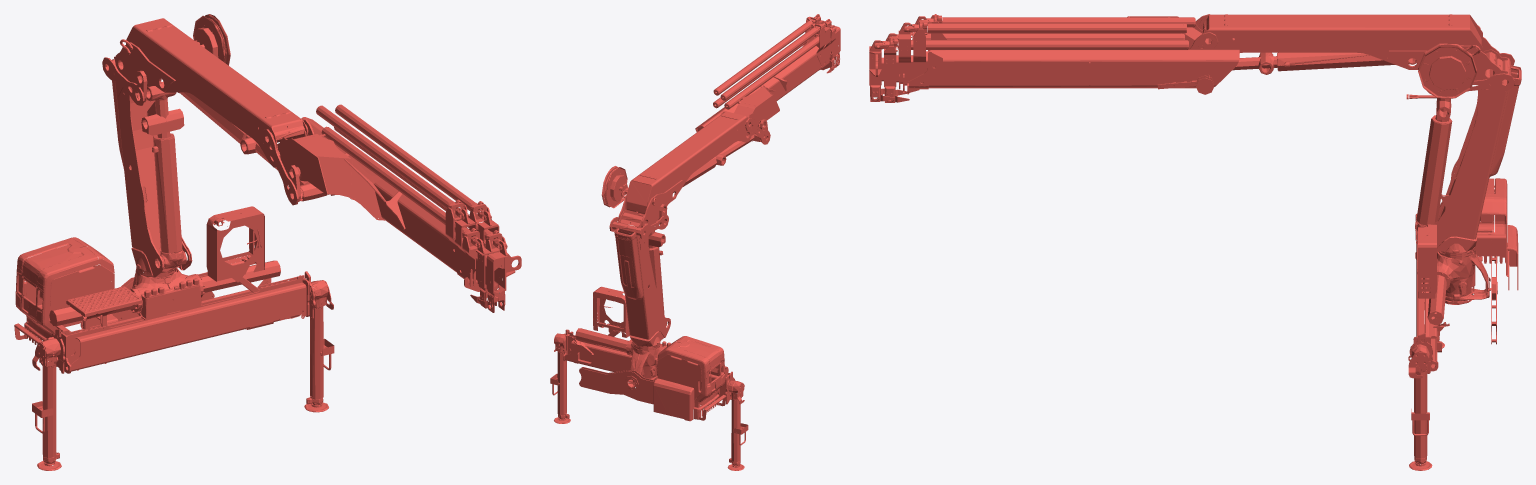
The model's file is hiab-x-hipro-142e4-unfolded.glb.
The picture shows the model from 3 angles, left to right: view 1: azimuth 30°, elevation 25°; view 2: azimuth 150°, elevation 25°; view 3: azimuth 270°, elevation 25°; orthographic projection. The views are drawn at different scales.
Visible parts, largest first — view 1: slew_mesh, base_mesh; view 2: slew_mesh, base_mesh; view 3: slew_mesh, base_mesh.
Part boxes in pixels (left/top/right/bottom): slew_mesh: left=17, top=14, right=521, bottom=312; base_mesh: left=14, top=246, right=334, bottom=470; slew_mesh: left=593, top=14, right=840, bottom=375; base_mesh: left=550, top=322, right=748, bottom=470; slew_mesh: left=869, top=14, right=1521, bottom=298; base_mesh: left=1408, top=185, right=1518, bottom=470.
Bounding box in the file's own units: 2.51 × 3.53 × 5.23.
